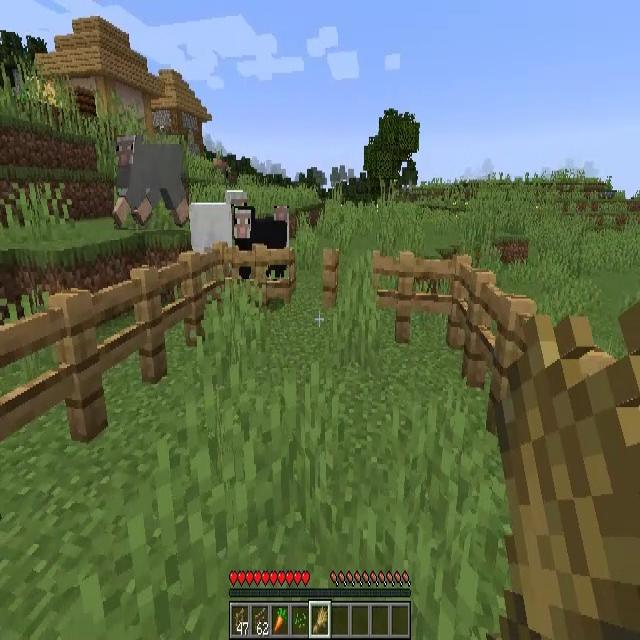sheep: (114, 135, 189, 230), (232, 206, 289, 279), (190, 191, 250, 258)
